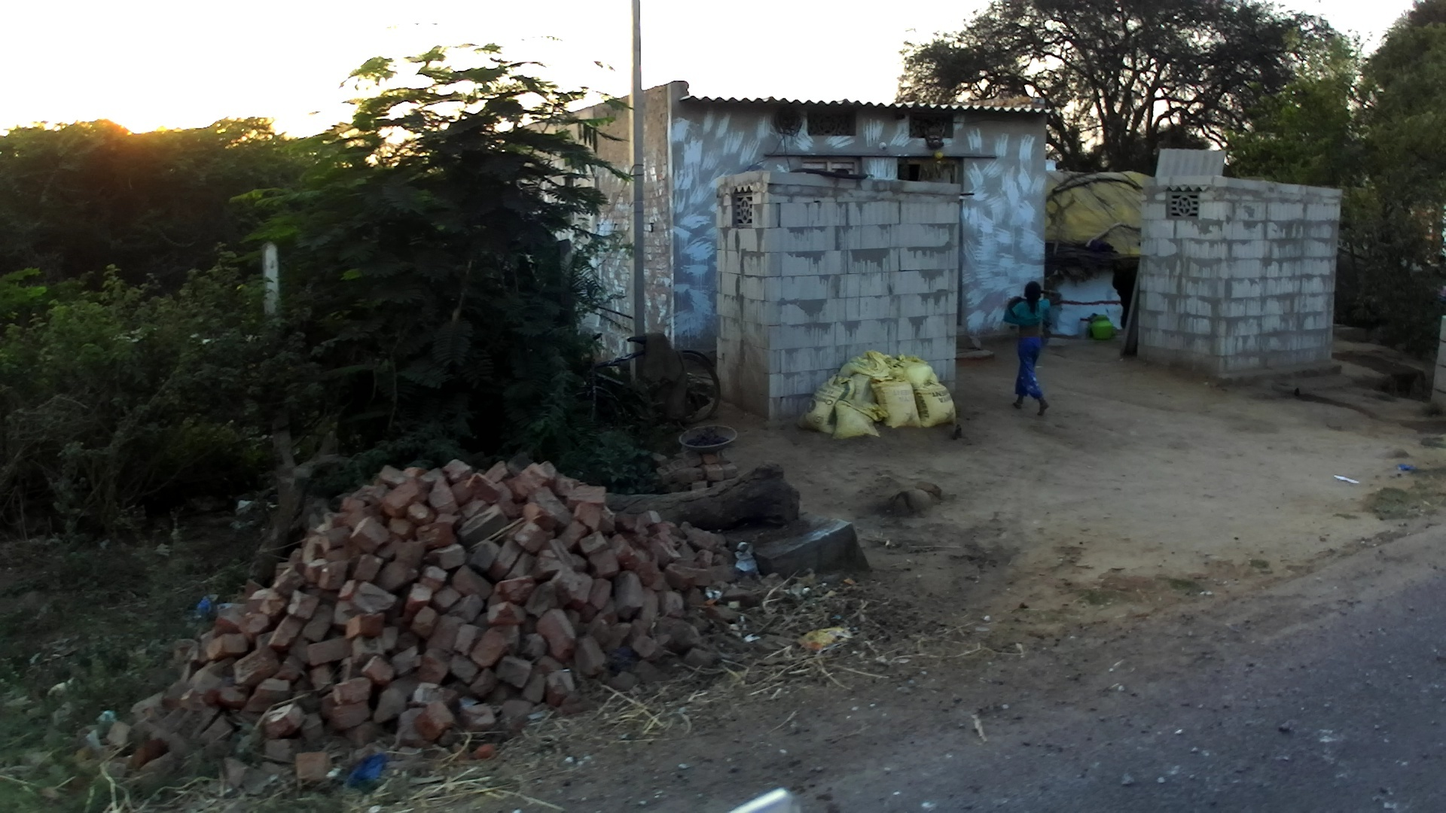person: (1002, 280, 1063, 417)
